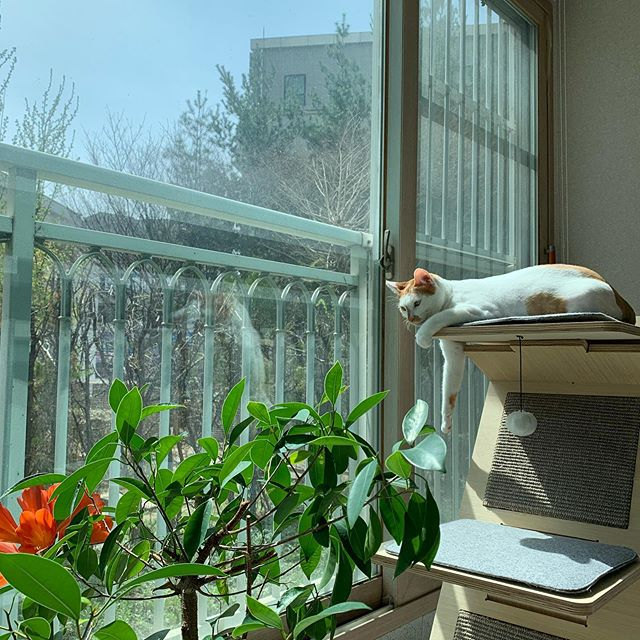cat: (378, 263, 451, 336)
